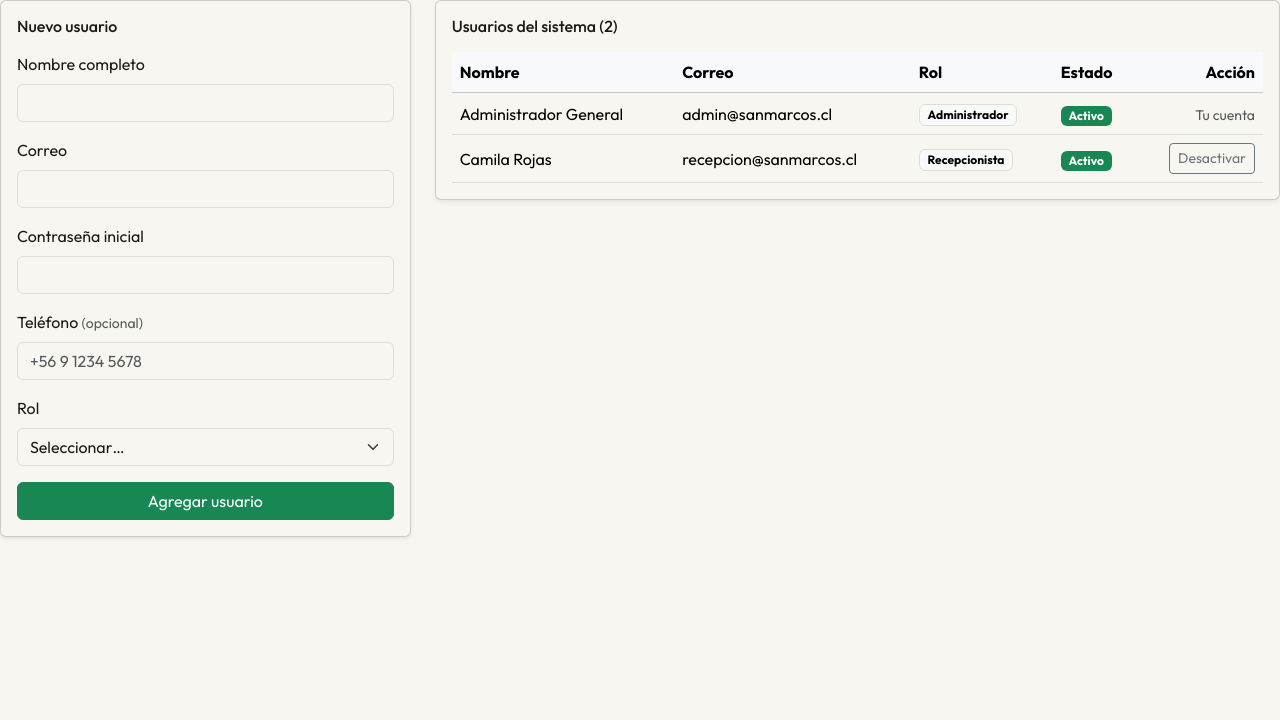
Test: UsuariosPanel (formulario con validación) › si la API rechaza el usuario muestra el error y conserva lo escrito
Type "Juan Pérez" into the field labelled "Nombre completo" at (205, 103), box [17,84,394,122]
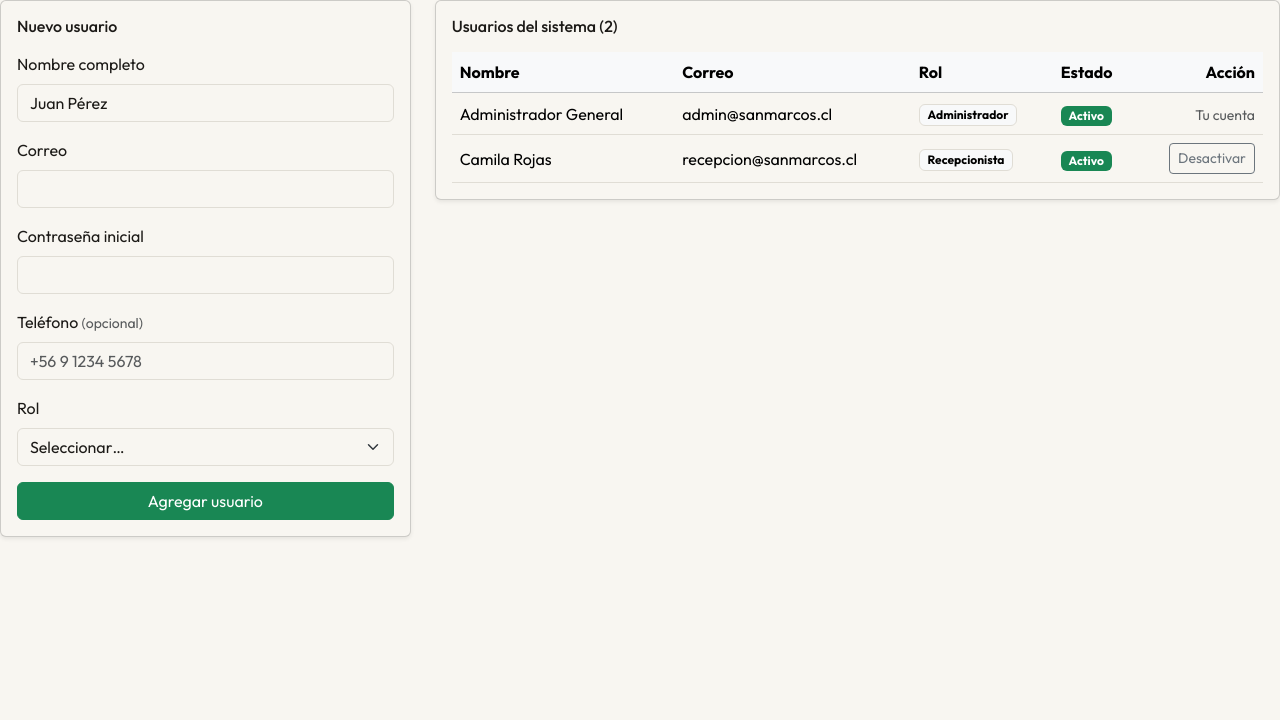
Type "juan@correo.cl" into the field labelled "Correo" at (205, 189), box [17,170,394,208]
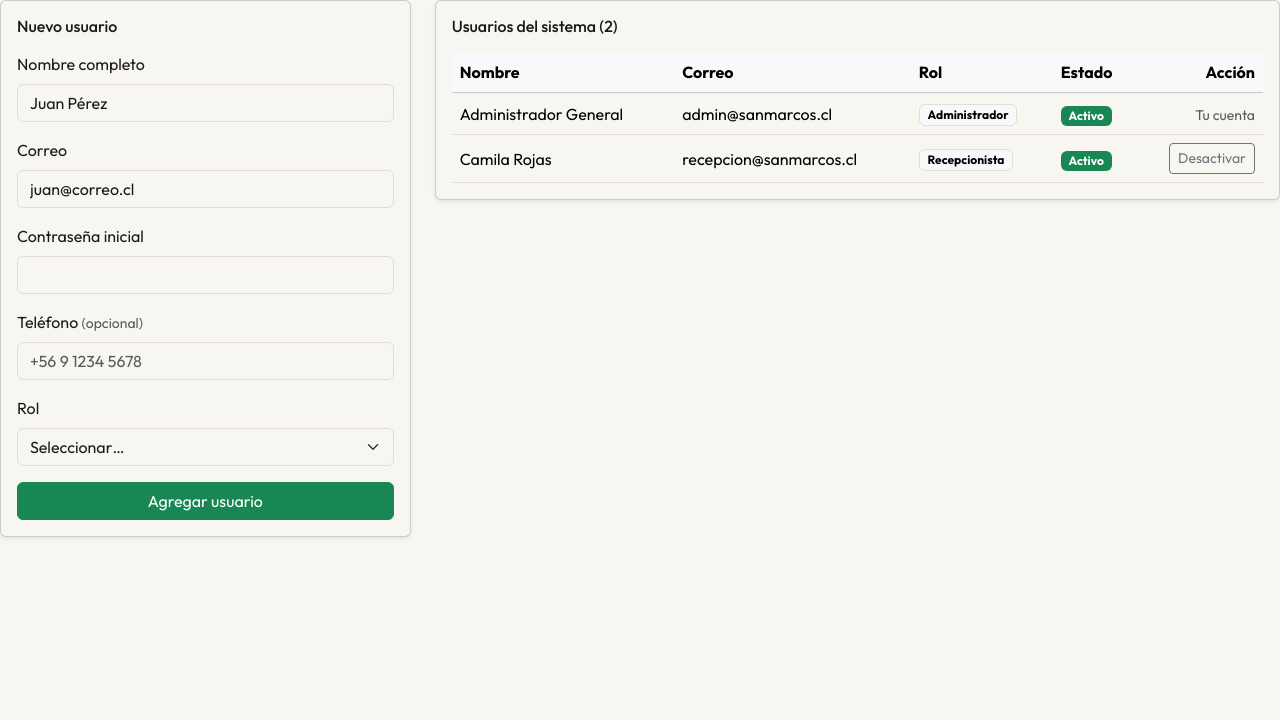
Type "Clave1234" into the password field labelled "Contraseña inicial" at (205, 275), box [17,256,394,294]
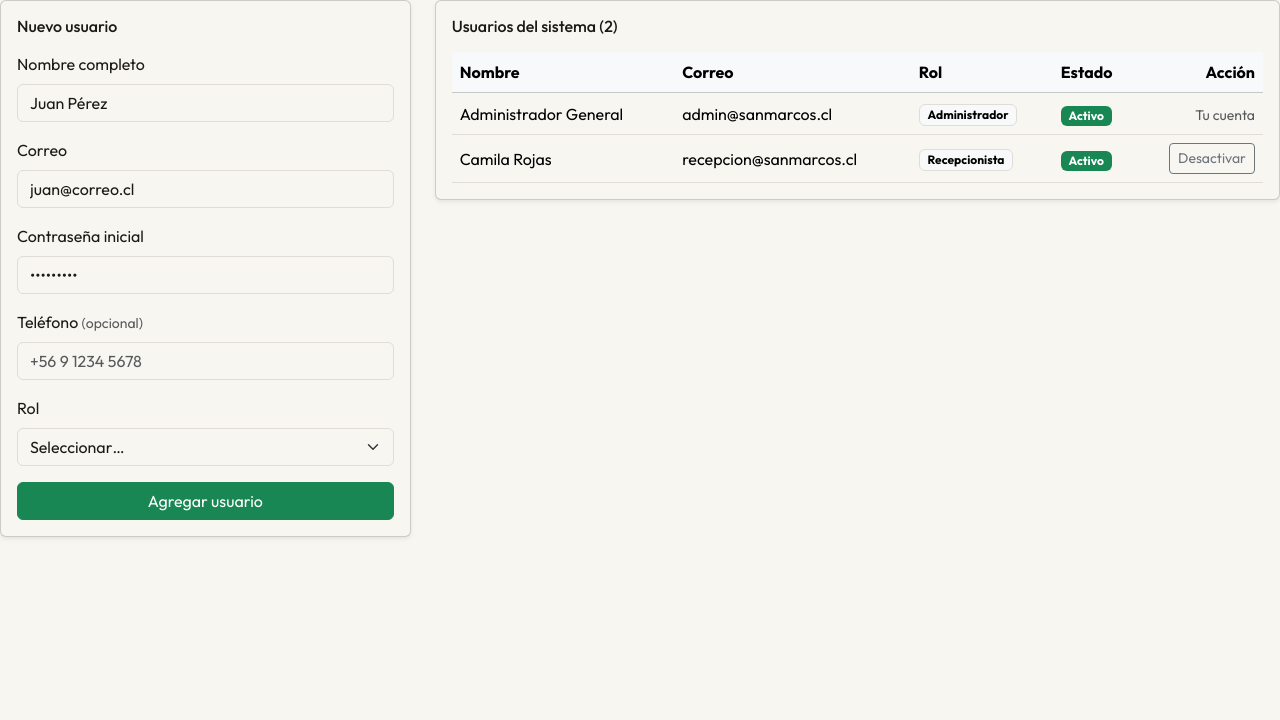
Select "Cliente" in the dropdown labelled "Rol" at (205, 447), box [17,428,394,466]
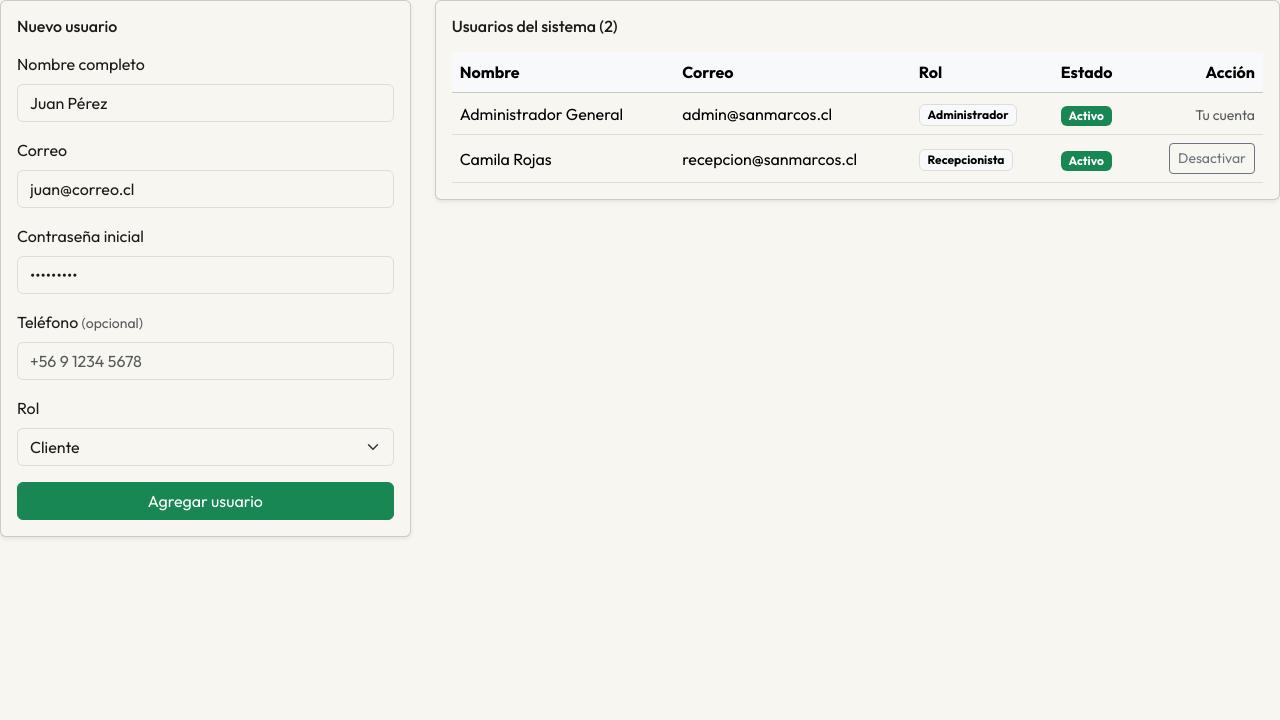
Submit the form "Nuevo usuario", box [0,0,411,537]
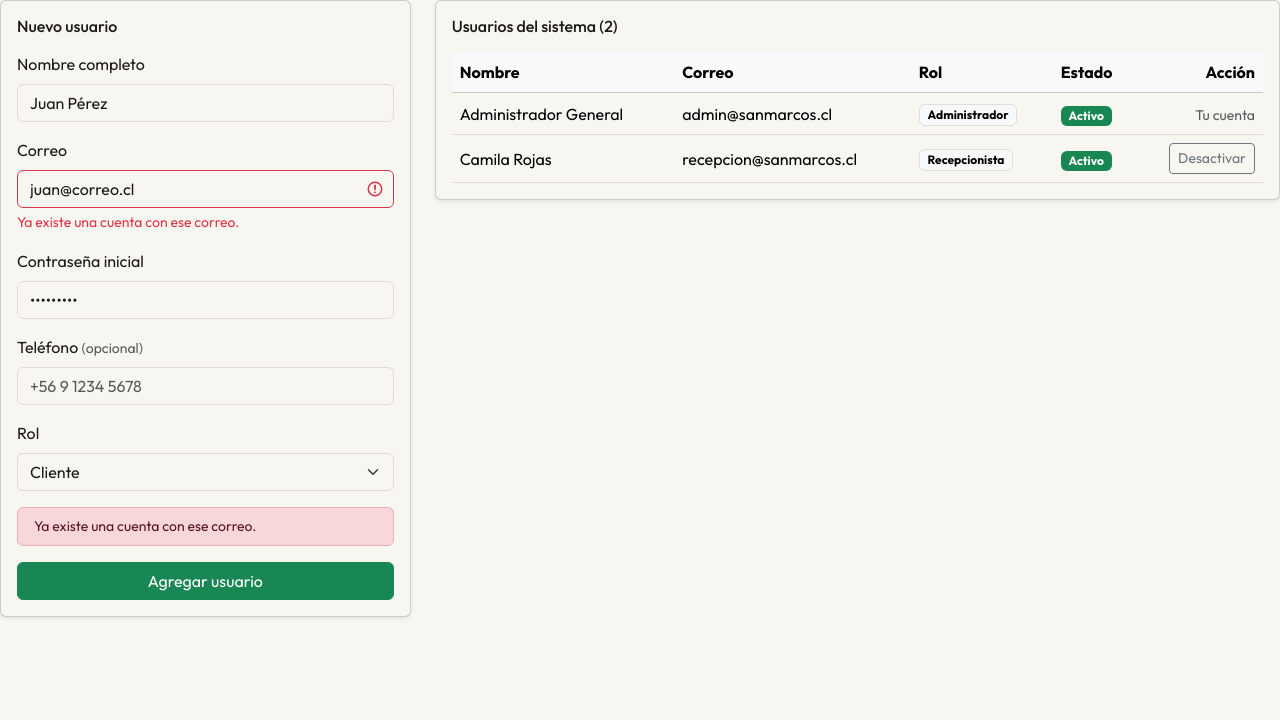
Check: the message reads "Ya existe una cuenta con ese correo.", box [34,517,256,535]
